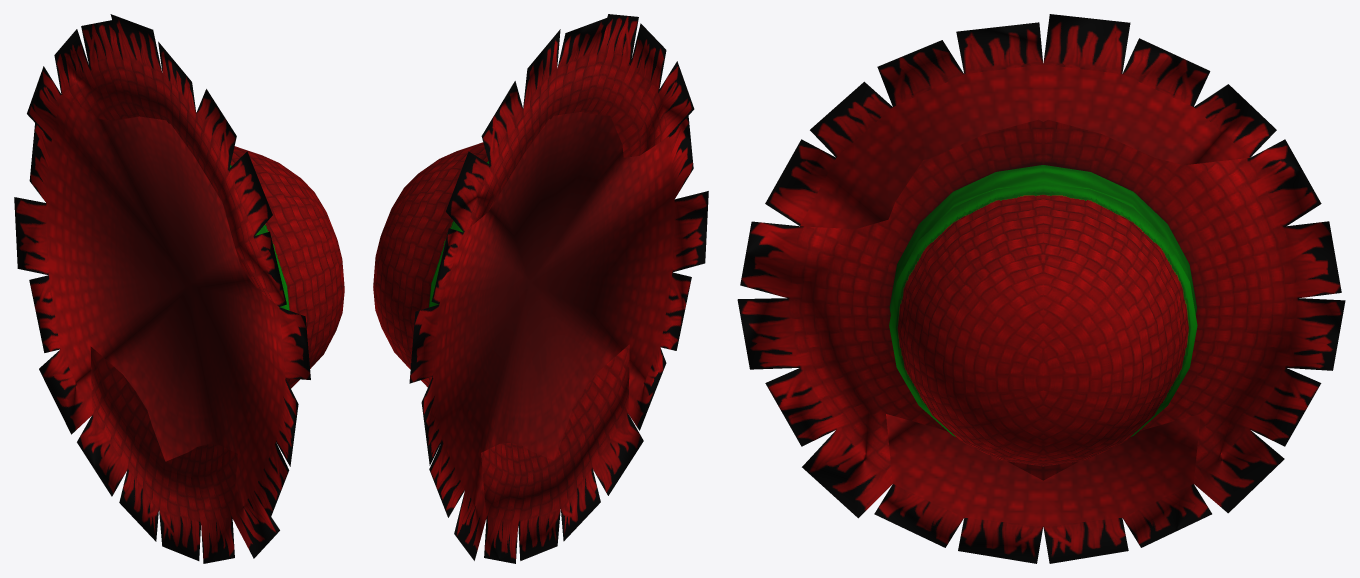
3 renders of one model, left to right at view 1: azimuth 30°, elevation 25°; view 2: azimuth 150°, elevation 25°; view 3: azimuth 270°, elevation 25°, orthographic. The views are drawn at different scales.
Parts seen in each view (by area): view 1: M1146; view 2: M1146; view 3: M1146.
Part boxes in pixels (box(x1,y1,x2,y2)): M1146: box(14, 14, 344, 563); M1146: box(373, 14, 708, 563); M1146: box(737, 14, 1345, 563).
Bounding box in the file's own units: 0.3367 × 0.9755 × 0.9803.
